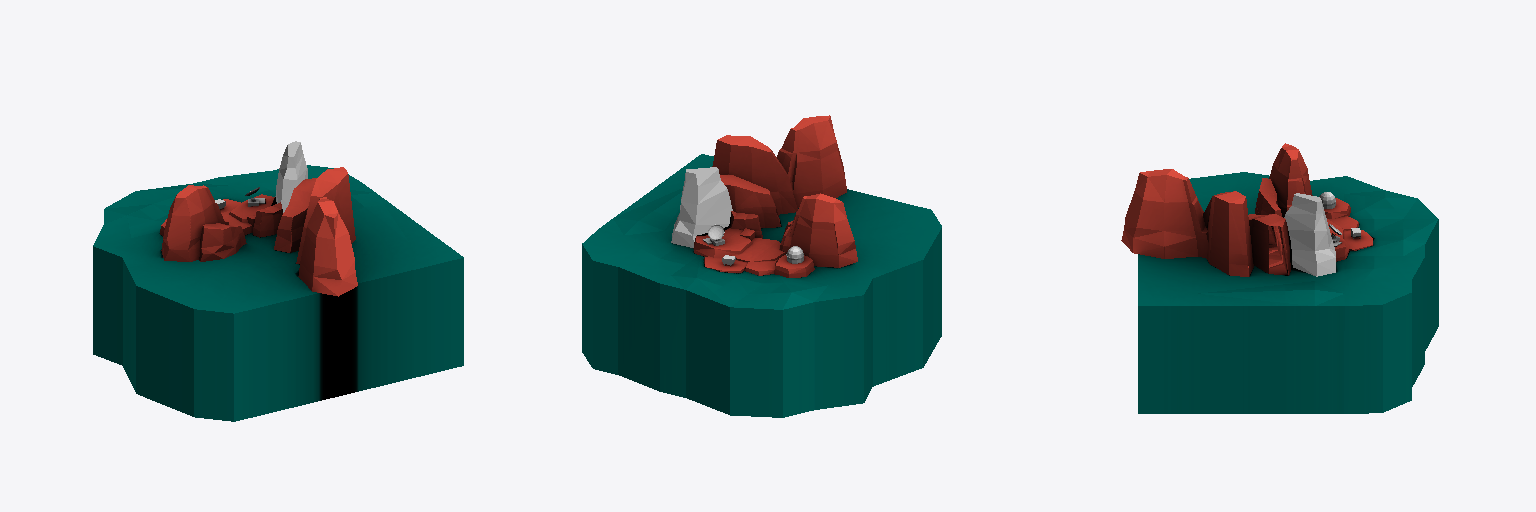
3 renders of one model, left to right at view 1: azimuth 30°, elevation 25°; view 2: azimuth 150°, elevation 25°; view 3: azimuth 270°, elevation 25°, orthographic.
Parts seen in each view (by area): view 1: space_island; view 2: space_island; view 3: space_island.
Boxes of the visible parts, box(x1,y1,x2,y2) form: space_island: box(93, 141, 463, 421); space_island: box(582, 115, 941, 417); space_island: box(1121, 143, 1438, 413).
Bounding box in the file's own units: 259 × 164 × 259.
Materials: 2 (1 with a texture image).